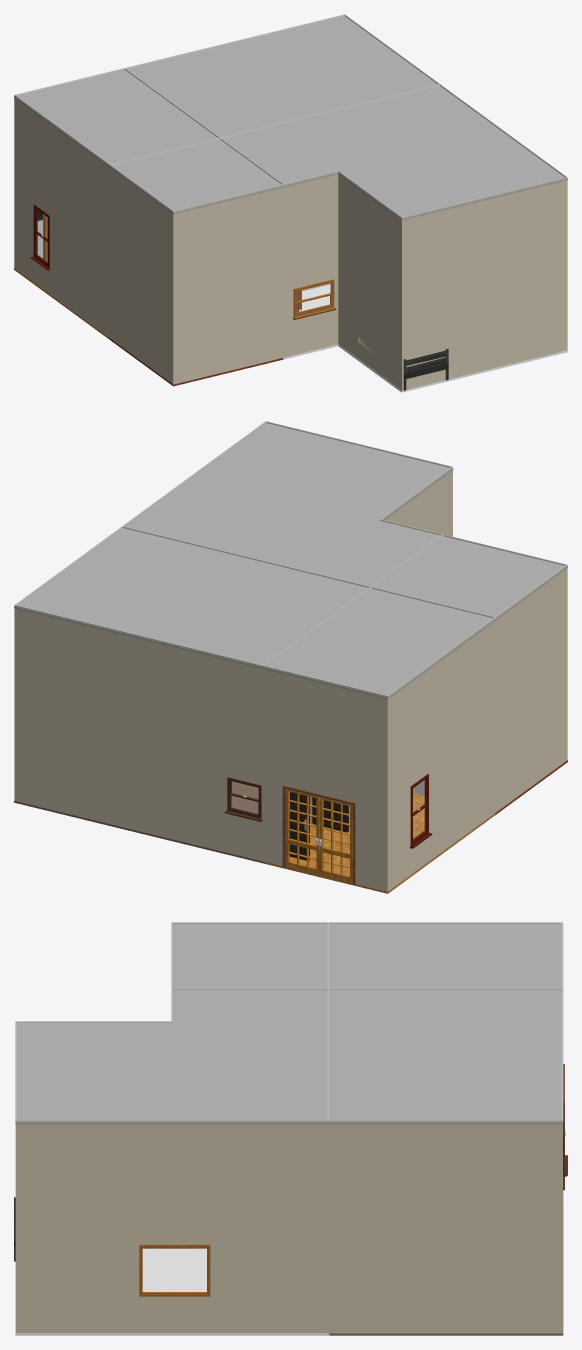
Rendered from ProcTHOR-Train-67.glb.
The picture shows the model from 3 angles, top to bottom: view 1: azimuth 30°, elevation 25°; view 2: azimuth 150°, elevation 25°; view 3: azimuth 270°, elevation 25°; orthographic projection. The views are drawn at different scales.
Visible parts, largest first — view 1: WallInside#wall|exterior|0.00|11.76|5.04|11.76, Ceiling#room|4|c, Ceiling#room|6|c, WallInside#wall|exterior|6.72|8.40|10.08|8.40, WallInside#wall|exterior|10.08|0.00|10.08|5.04, WallInside#wall|exterior|10.08|5.04|10.08|8.40, WallInside#wall|exterior|5.04|8.40|5.04|11.76, Ceiling#room|7|c, WallInside#wall|exterior|5.04|8.40|6.72|8.40, Ceiling#room|5|c, Floor#room|4|f, Bed_7 (+3 smaller); view 2: WallInside#wall|exterior|0.00|0.00|6.72|0.00, Ceiling#room|4|c, Ceiling#room|6|c, WallInside#wall|exterior|10.08|0.00|10.08|5.04, WallInside#wall|exterior|6.72|0.00|10.08|0.00, WallInside#wall|exterior|10.08|5.04|10.08|8.40, Ceiling#room|7|c, Ceiling#room|5|c, WallInside#wall|exterior|5.04|8.40|5.04|11.76, Floor#room|7|f, Doorway_Door_5b, Doorway_Door_5a (+6 smaller); view 3: WallInside#wall|exterior|0.00|5.04|0.00|11.76, WallInside#wall|exterior|0.00|0.00|0.00|5.04, Ceiling#room|4|c, Ceiling#room|6|c, Ceiling#room|7|c, Ceiling#room|5|c, Floor#room|4|f, Window_Fixed_60x48, Floor#room|6|f, WallInside#wall|6|6.72|0.00|6.72|5.04, WallInside#wall|7|10.08|0.00|10.08|5.04.
Boxes of the visible parts, left/top/right/bottom form: WallInside#wall|exterior|0.00|11.76|5.04|11.76: left=402, top=177, right=567, bottom=390; Ceiling#room|4|c: left=220, top=85, right=567, bottom=220; Ceiling#room|6|c: left=127, top=16, right=437, bottom=137; WallInside#wall|exterior|6.72|8.40|10.08|8.40: left=173, top=184, right=284, bottom=384; WallInside#wall|exterior|10.08|0.00|10.08|5.04: left=14, top=95, right=109, bottom=337; WallInside#wall|exterior|10.08|5.04|10.08|8.40: left=109, top=165, right=173, bottom=384; WallInside#wall|exterior|5.04|8.40|5.04|11.76: left=338, top=171, right=401, bottom=390; Ceiling#room|7|c: left=14, top=69, right=219, bottom=167; WallInside#wall|exterior|5.04|8.40|6.72|8.40: left=283, top=171, right=338, bottom=357; Ceiling#room|5|c: left=109, top=139, right=283, bottom=214; Floor#room|4|f: left=283, top=284, right=567, bottom=392; Bed_7: left=354, top=335, right=448, bottom=390; WallInside#wall|exterior|0.00|0.00|6.72|0.00: left=14, top=605, right=263, bottom=861; Ceiling#room|4|c: left=123, top=423, right=453, bottom=587; Ceiling#room|6|c: left=14, top=528, right=370, bottom=669; WallInside#wall|exterior|10.08|0.00|10.08|5.04: left=387, top=617, right=495, bottom=891; WallInside#wall|exterior|6.72|0.00|10.08|0.00: left=263, top=666, right=387, bottom=891; WallInside#wall|exterior|10.08|5.04|10.08|8.40: left=495, top=565, right=567, bottom=812; Ceiling#room|7|c: left=263, top=589, right=495, bottom=699; Ceiling#room|5|c: left=373, top=536, right=567, bottom=620; WallInside#wall|exterior|5.04|8.40|5.04|11.76: left=381, top=466, right=452, bottom=536; Floor#room|7|f: left=262, top=793, right=495, bottom=893; Doorway_Door_5b: left=285, top=789, right=319, bottom=875; Doorway_Door_5a: left=319, top=797, right=352, bottom=883; WallInside#wall|exterior|0.00|5.04|0.00|11.76: left=15, top=1120, right=328, bottom=1333; WallInside#wall|exterior|0.00|0.00|0.00|5.04: left=327, top=1120, right=562, bottom=1333; Ceiling#room|4|c: left=15, top=990, right=329, bottom=1124; Ceiling#room|6|c: left=327, top=990, right=563, bottom=1124; Ceiling#room|7|c: left=327, top=924, right=563, bottom=989; Ceiling#room|5|c: left=171, top=924, right=329, bottom=989; Floor#room|4|f: left=15, top=1248, right=329, bottom=1335; Window_Fixed_60x48: left=139, top=1244, right=210, bottom=1296; Floor#room|6|f: left=329, top=1202, right=563, bottom=1335; WallInside#wall|6|6.72|0.00|6.72|5.04: left=329, top=988, right=562, bottom=990; WallInside#wall|7|10.08|0.00|10.08|5.04: left=329, top=922, right=561, bottom=924.
Size of what is drawn, in the model's own units: 10.24 by 5.11 by 11.93.
Materials: 282 (100 with a texture image).
